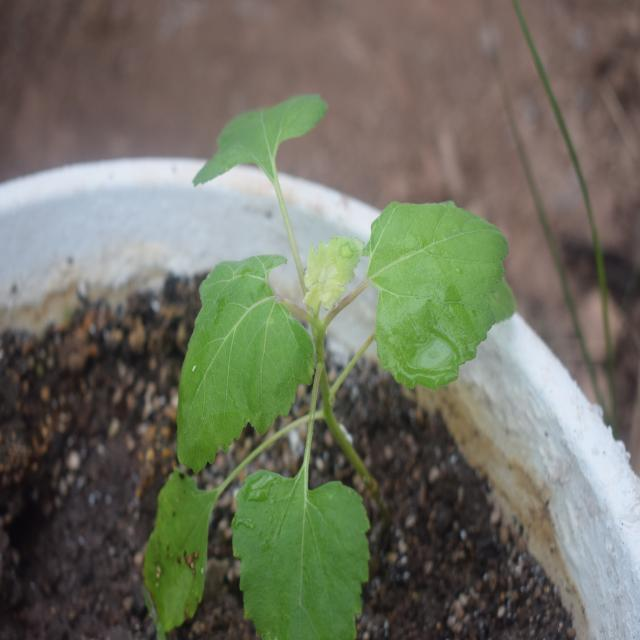cocklebur: (140, 78, 503, 592)
